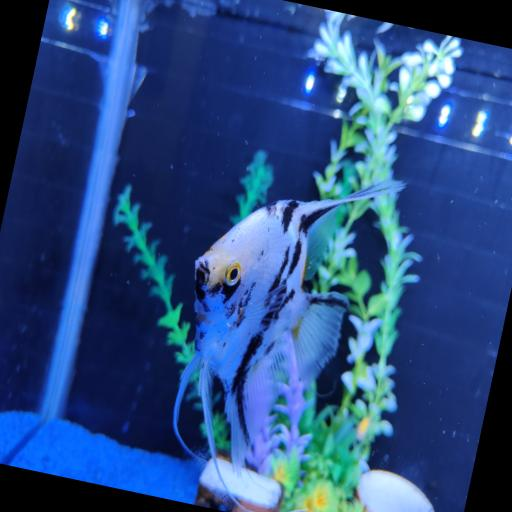Fish: (173, 181, 404, 468)
